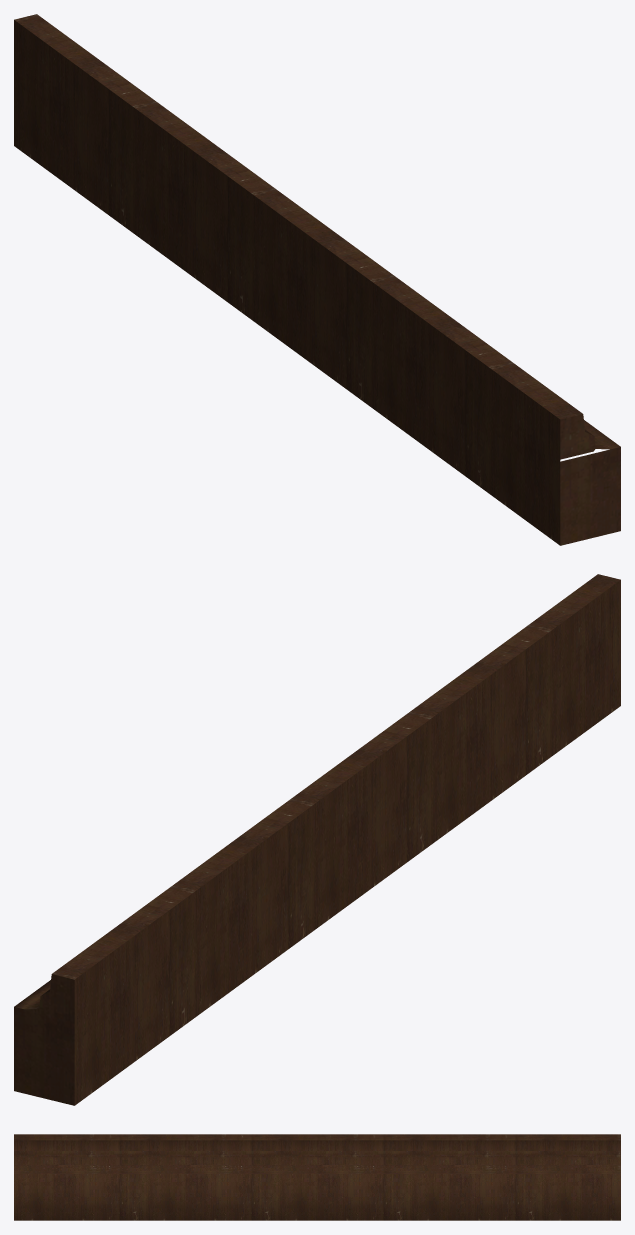
The model's file is souphalftrim001.glb.
3 views of the same model, one above another, from view 1: azimuth 30°, elevation 25°; view 2: azimuth 150°, elevation 25°; view 3: azimuth 270°, elevation 25° (orthographic). The views are drawn at different scales.
Visible parts, largest first — view 1: souphalftrim001_high_1; view 2: souphalftrim001_high_1; view 3: souphalftrim001_high_1.
Boxes of the visible parts, x1,y1,x2,y2 form: souphalftrim001_high_1: [14, 14, 620, 545]; souphalftrim001_high_1: [14, 574, 620, 1105]; souphalftrim001_high_1: [14, 1134, 620, 1220].
Bounding box in the file's own units: 0.0861 × 0.1712 × 1.34.
1 material, 1 textured.
